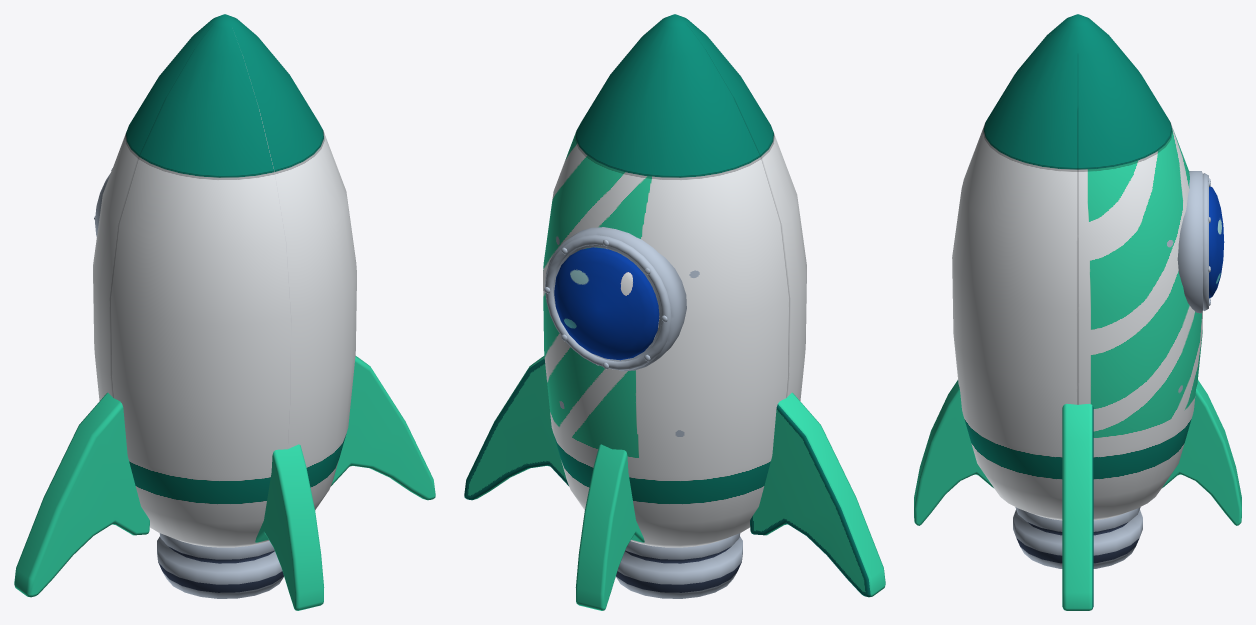
File: rocket_raro.fbx
The picture shows the model from 3 angles, left to right: view 1: azimuth 30°, elevation 25°; view 2: azimuth 150°, elevation 25°; view 3: azimuth 270°, elevation 25°; orthographic projection. The views are drawn at different scales.
Visible parts, largest first — view 1: Body, Fins, Nozzle; view 2: Body, Fins, Window, Nozzle; view 3: Body, Fins, Nozzle, Window.
Boxes of the visible parts, left/top/right/bottom form: Body: left=93, top=14, right=356, bottom=547; Fins: left=14, top=356, right=435, bottom=610; Nozzle: left=157, top=533, right=283, bottom=598; Body: left=543, top=14, right=806, bottom=547; Fins: left=464, top=356, right=885, bottom=610; Window: left=554, top=247, right=659, bottom=360; Nozzle: left=616, top=533, right=742, bottom=598; Body: left=952, top=14, right=1210, bottom=520; Fins: left=914, top=380, right=1241, bottom=610; Nozzle: left=1013, top=507, right=1142, bottom=568; Window: left=1209, top=186, right=1224, bottom=298.
Bounding box in the file's own units: 2.14 × 2.8 × 1.56.
3 materials, 3 textured.
